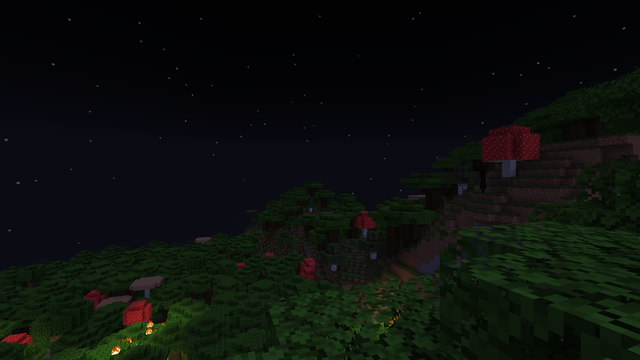endermens: (479, 169, 486, 192)
